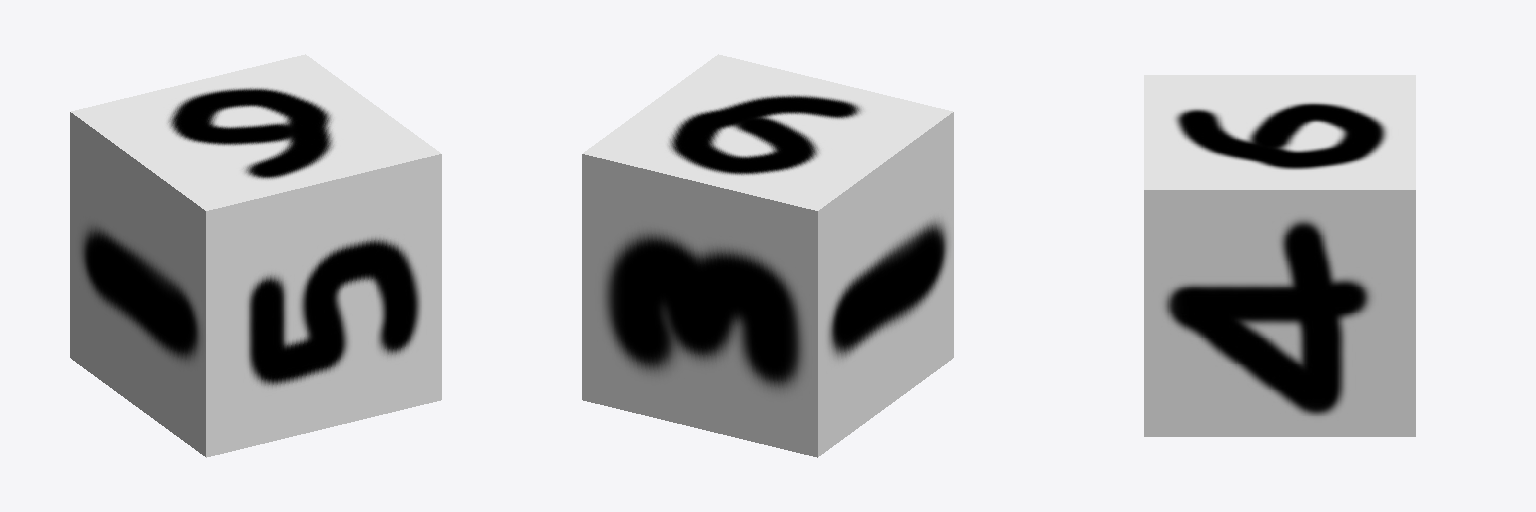
3 views of the same model, side by side, from view 1: azimuth 30°, elevation 25°; view 2: azimuth 150°, elevation 25°; view 3: azimuth 270°, elevation 25° (orthographic).
Parts seen in each view (by area): view 1: Cube; view 2: Cube; view 3: Cube.
Part boxes in pixels (left/top/right/bottom): Cube: left=70, top=54, right=441, bottom=457; Cube: left=582, top=54, right=953, bottom=457; Cube: left=1144, top=75, right=1415, bottom=436.
Bounding box in the file's own units: 2 × 2 × 2.
1 materials, 1 textured.